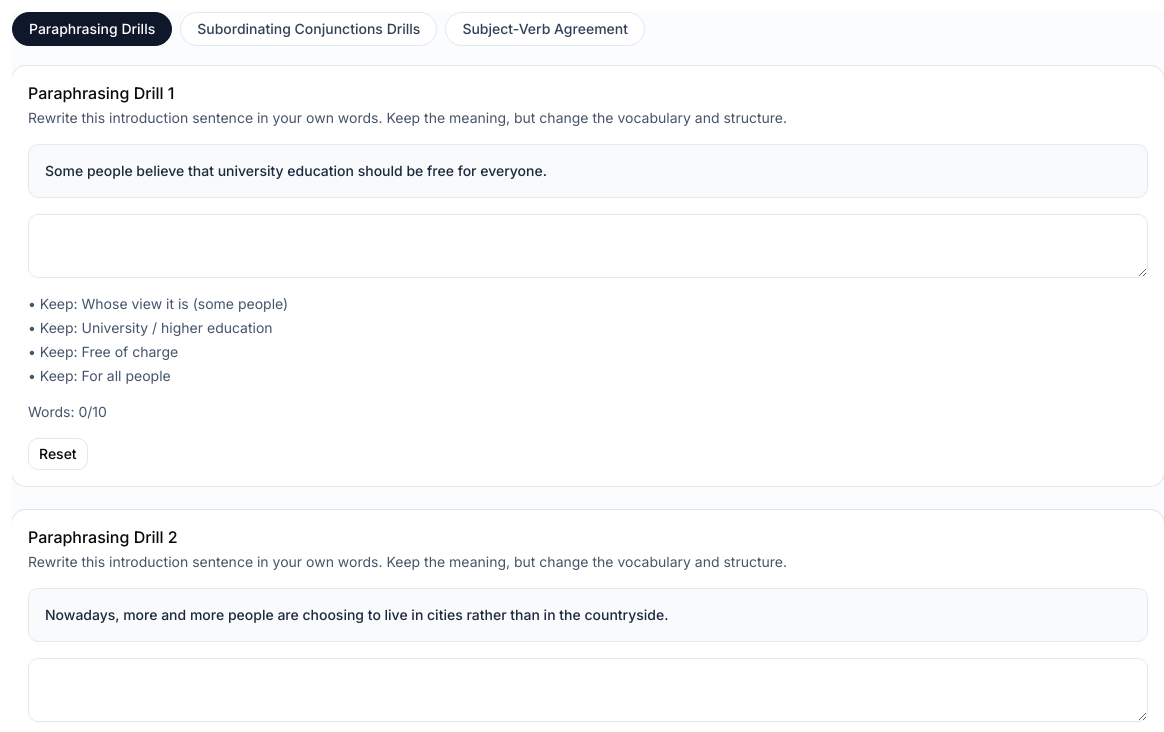
Test: PracticeBank › validates agreement corrections
Click the tab "Subject-Verb Agreement".
click(545, 29)  # box [445,12,645,46]
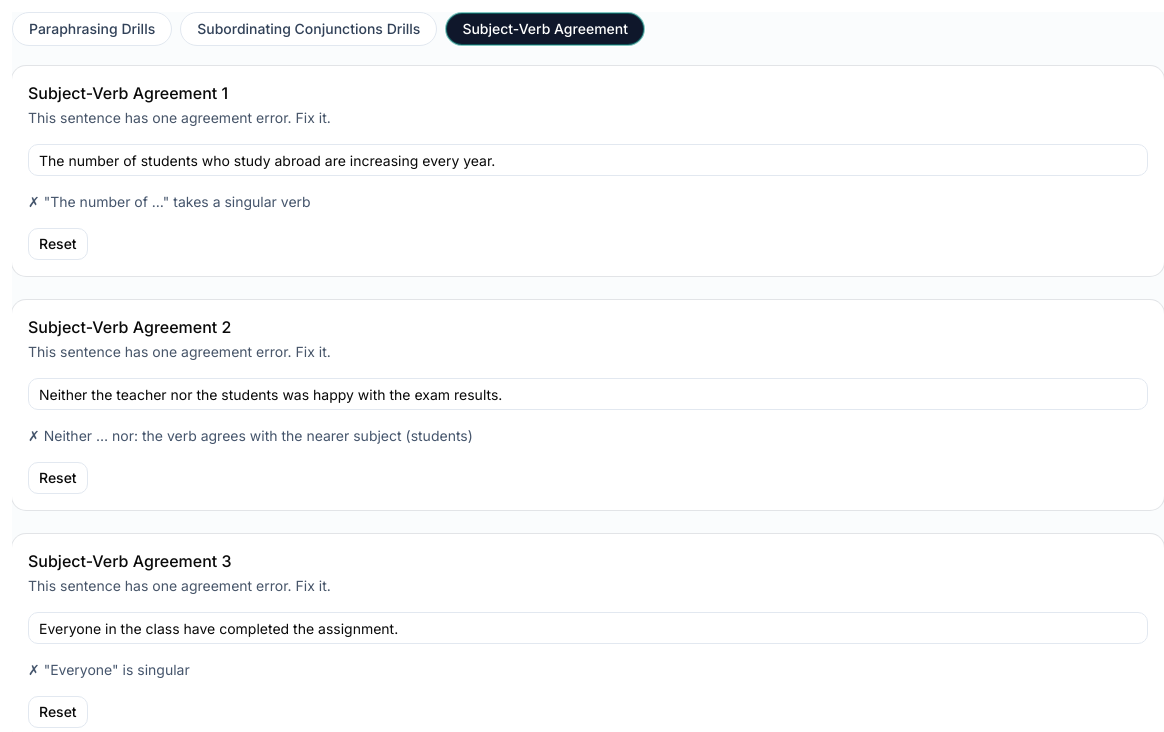
Expected: the field named "Agreement 3 sentence" holds "Everyone in the class have completed the assignment."
Expected: the number of list items "✗ \"Everyone\" is singular" is 1, [28,661,190,678]
Replace the text in the field named "Agreement 3 sentence" with "Everyone in the class has completed the assignment." at {"x": 588, "y": 628}, box [28,612,1148,644]
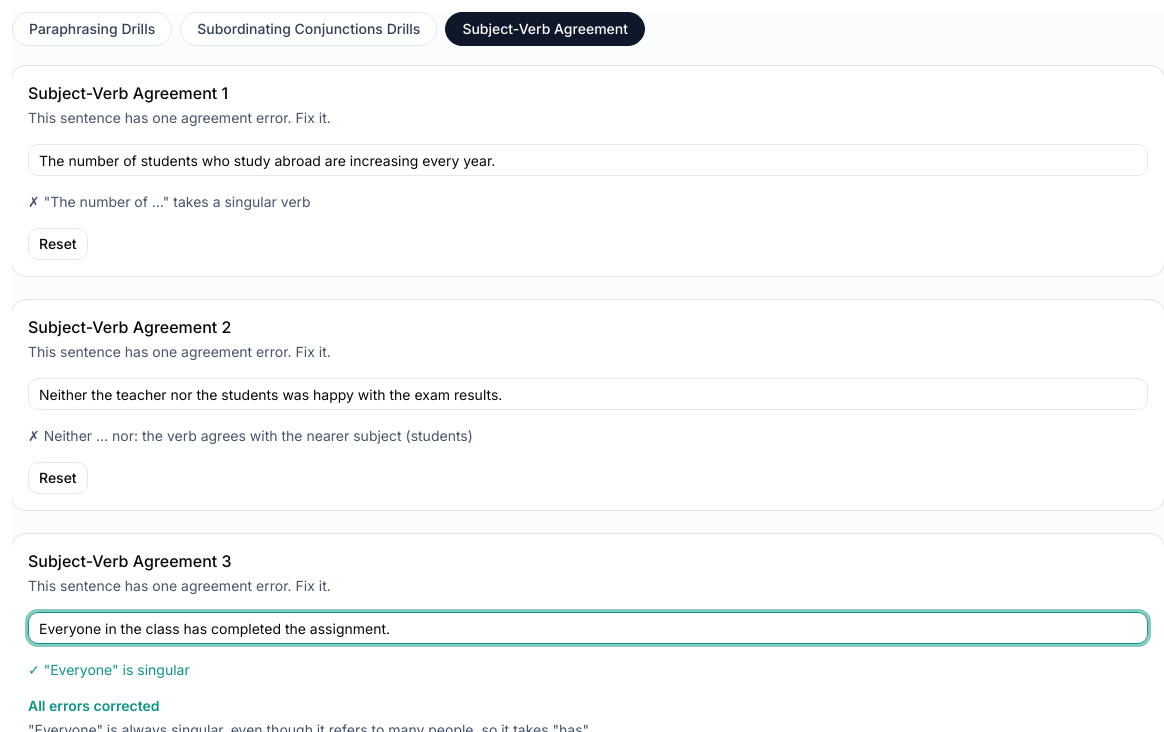
Expected: the list item "✓ \"Everyone\" is singular" is shown, [28,661,190,678]
Expected: the text "All errors corrected" is shown once, [28,697,160,714]
